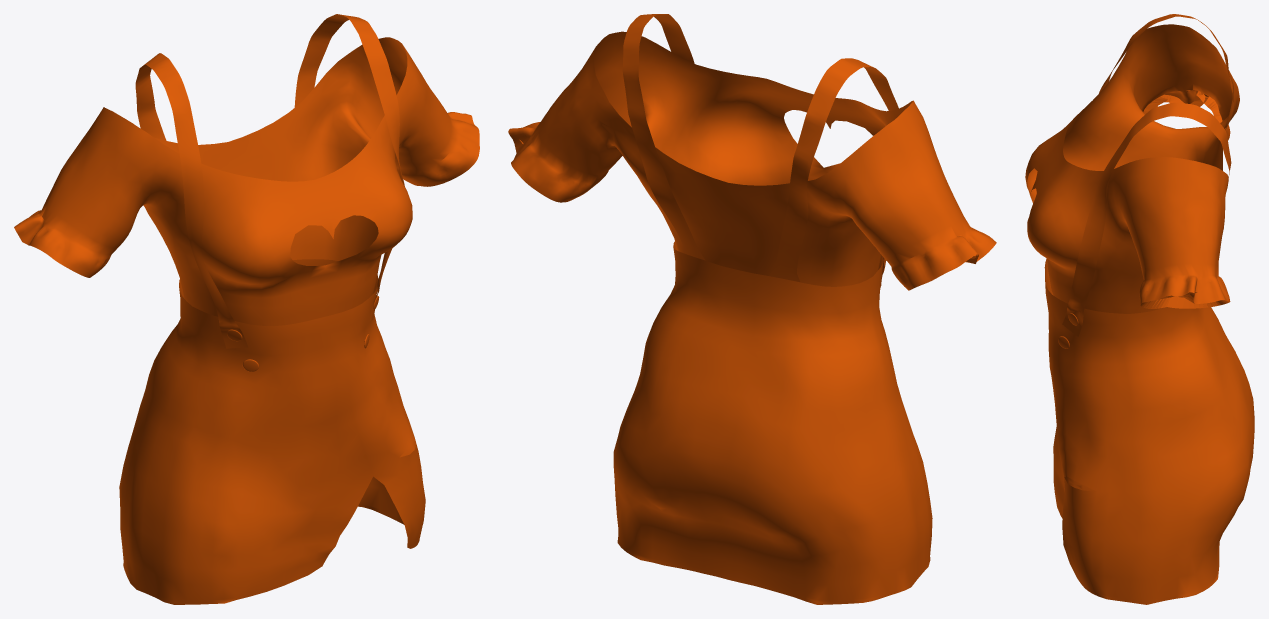
Rendered from vestidofem4.glb.
3 views of the same model, side by side, from view 1: azimuth 30°, elevation 25°; view 2: azimuth 150°, elevation 25°; view 3: azimuth 270°, elevation 25° (orthographic). The views are drawn at different scales.
Visible parts, largest first — view 1: hash_F310BCF6.model; view 2: hash_F310BCF6.model; view 3: hash_F310BCF6.model.
Part boxes in pixels (left/top/right/bottom): hash_F310BCF6.model: left=14, top=14, right=479, bottom=604; hash_F310BCF6.model: left=508, top=14, right=996, bottom=604; hash_F310BCF6.model: left=1025, top=14, right=1254, bottom=604.
Size of the model in its own units: 0.7107 by 0.7627 by 0.3262.
